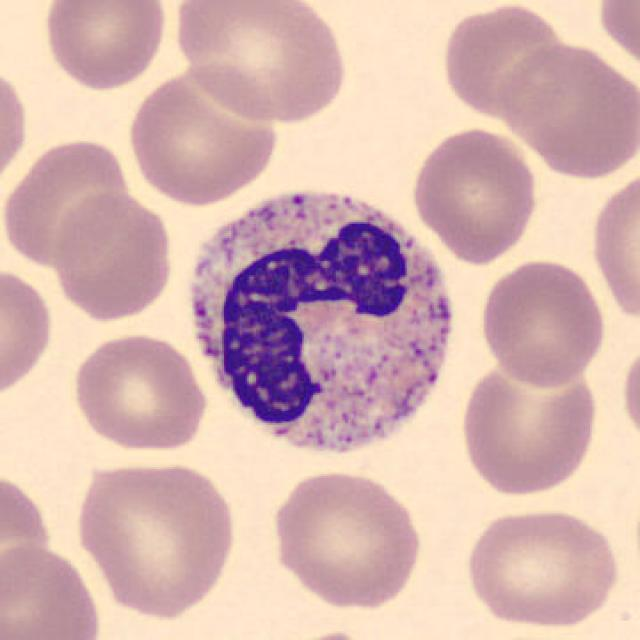Neutrophil: (176, 173, 468, 478)
RBC: (71, 457, 240, 620), (267, 467, 425, 612), (171, 0, 352, 125), (123, 67, 279, 208), (455, 356, 601, 499), (460, 504, 622, 631), (496, 37, 636, 182), (409, 124, 542, 266), (0, 132, 133, 269), (476, 256, 610, 390), (68, 330, 210, 455), (48, 188, 178, 322), (437, 0, 576, 122), (39, 0, 170, 93), (0, 539, 105, 640), (587, 164, 638, 326), (0, 465, 55, 610), (0, 261, 55, 402), (0, 60, 32, 196), (594, 0, 638, 76), (618, 335, 640, 455), (263, 627, 394, 640)
